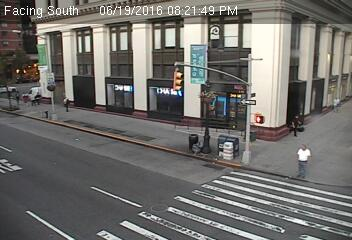neg: (101, 58, 126, 91), (91, 120, 114, 149), (256, 186, 278, 215), (226, 135, 247, 162), (167, 67, 187, 95), (154, 196, 173, 222), (182, 130, 200, 154), (204, 192, 222, 215), (109, 186, 126, 208), (200, 128, 216, 150), (234, 93, 250, 114), (39, 173, 55, 193), (154, 146, 169, 166), (307, 52, 322, 72), (250, 109, 265, 129), (248, 54, 263, 73), (277, 80, 289, 96)
pos: (286, 139, 318, 181), (288, 110, 308, 137), (59, 93, 73, 112)
